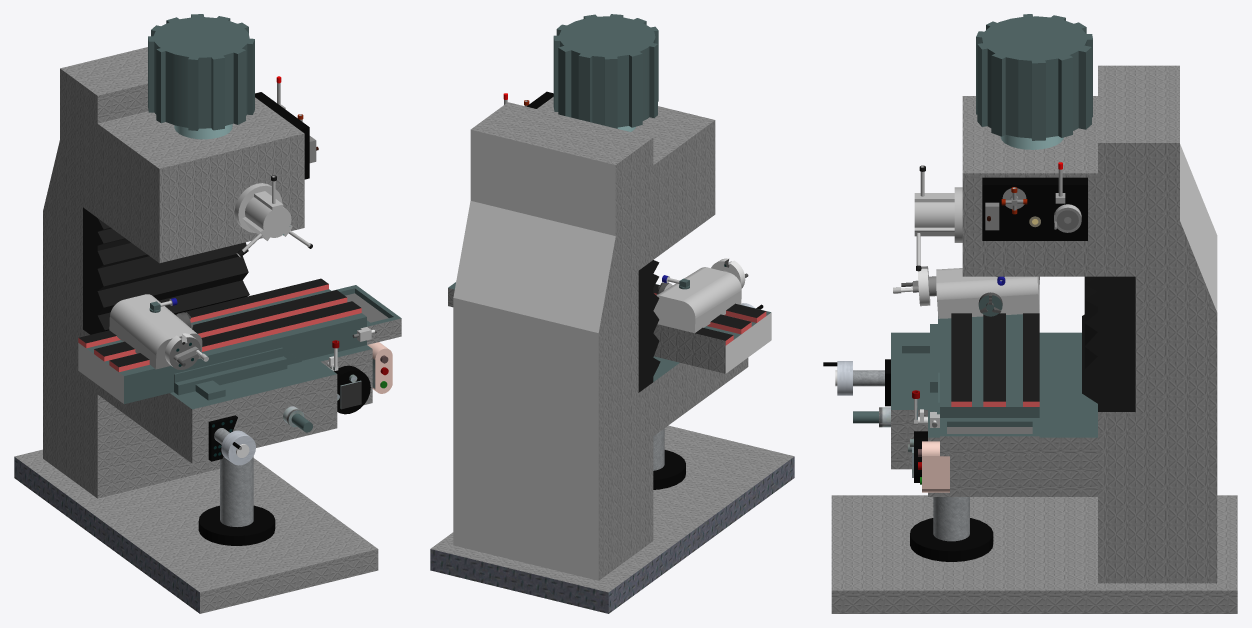
The model's file is fresadora.glb.
The picture shows the model from 3 angles, left to right: view 1: azimuth 30°, elevation 25°; view 2: azimuth 150°, elevation 25°; view 3: azimuth 270°, elevation 25°; orthographic projection. The views are drawn at different scales.
Visible parts, largest first — view 1: G-Object; view 2: G-Object; view 3: G-Object.
Part boxes in pixels (x1,y1,x2,y2): G-Object: [14, 14, 401, 613]; G-Object: [430, 14, 794, 613]; G-Object: [823, 14, 1237, 613].
Bounding box in the file's own units: 1.76 × 2.94 × 2.08.
31 materials, 5 textured.
